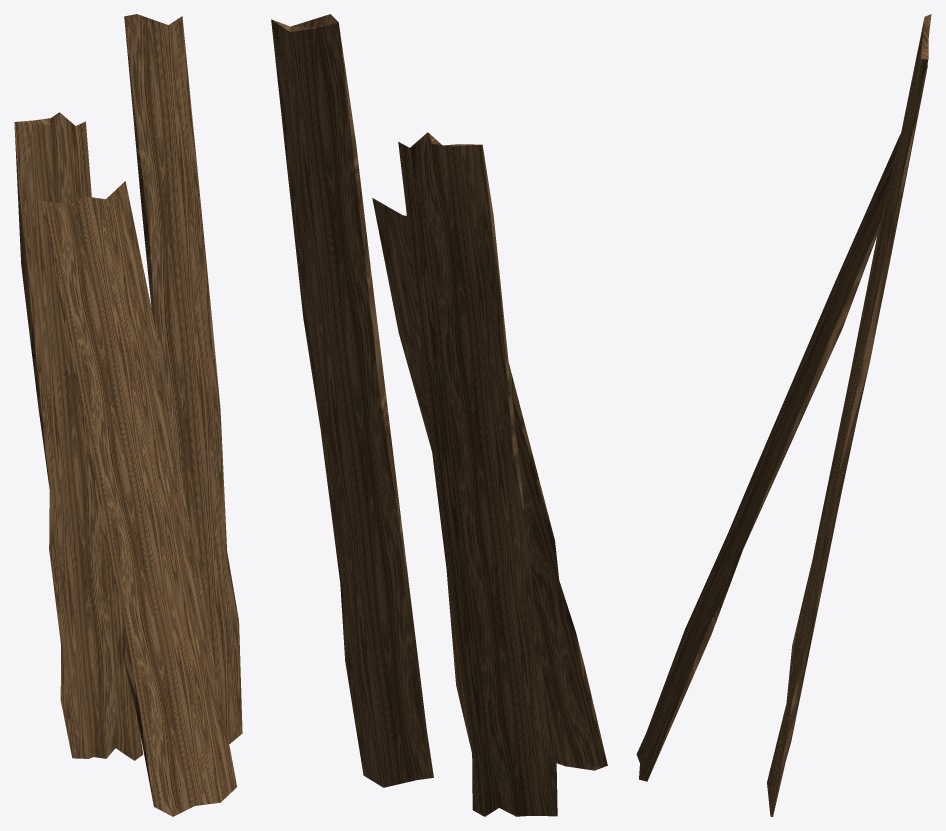
The model's file is wood_prop1_LOD1.FBX.
3 views of the same model, side by side, from view 1: azimuth 30°, elevation 25°; view 2: azimuth 150°, elevation 25°; view 3: azimuth 270°, elevation 25° (orthographic). The views are drawn at different scales.
Visible parts, largest first — view 1: wood_prop1_LOD1; view 2: wood_prop1_LOD1; view 3: wood_prop1_LOD1.
Boxes of the visible parts, bbox=[...] form: wood_prop1_LOD1: bbox=[14, 14, 242, 816]; wood_prop1_LOD1: bbox=[271, 14, 607, 816]; wood_prop1_LOD1: bbox=[636, 14, 931, 816].
Bounding box in the file's own units: 61.88 × 229 × 77.88.
